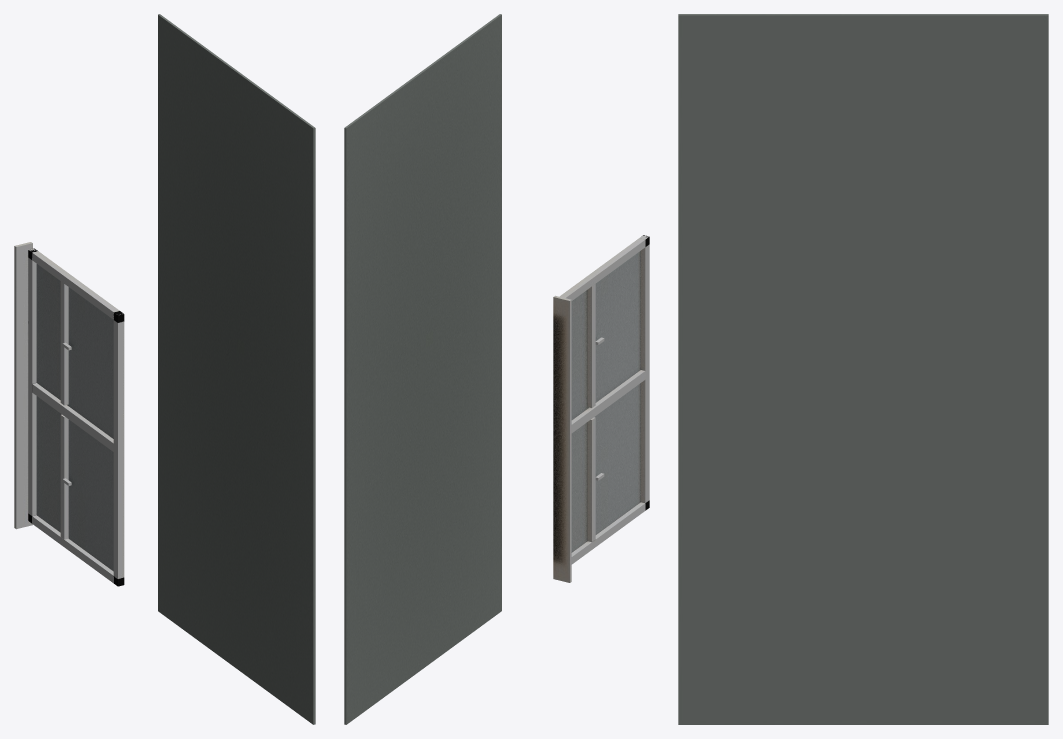
The picture shows the model from 3 angles, left to right: view 1: azimuth 30°, elevation 25°; view 2: azimuth 150°, elevation 25°; view 3: azimuth 270°, elevation 25°; orthographic projection. The views are drawn at different scales.
Parts seen in each view (by area): view 1: R3v_backdrop.001; view 2: R3v_backdrop.001; view 3: R3v_backdrop.001.
Boxes of the visible parts, x1,y1,x2,y2 form: R3v_backdrop.001: (14,14,315,724); R3v_backdrop.001: (344,14,649,724); R3v_backdrop.001: (678,14,1048,724).
Bounding box in the file's own units: 1.79 × 5.5 × 2.6.
1 material, 1 textured.
